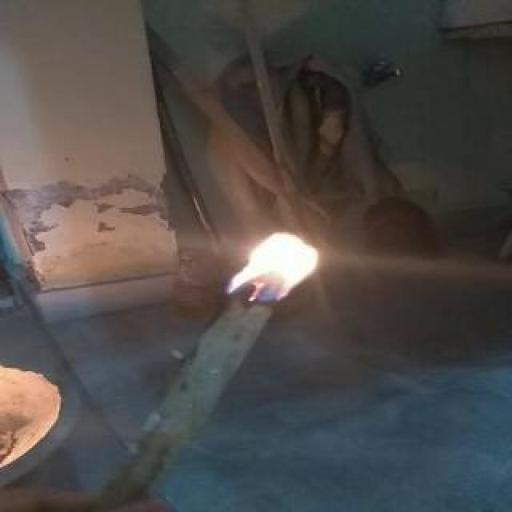smoke: (219, 232, 346, 304)
